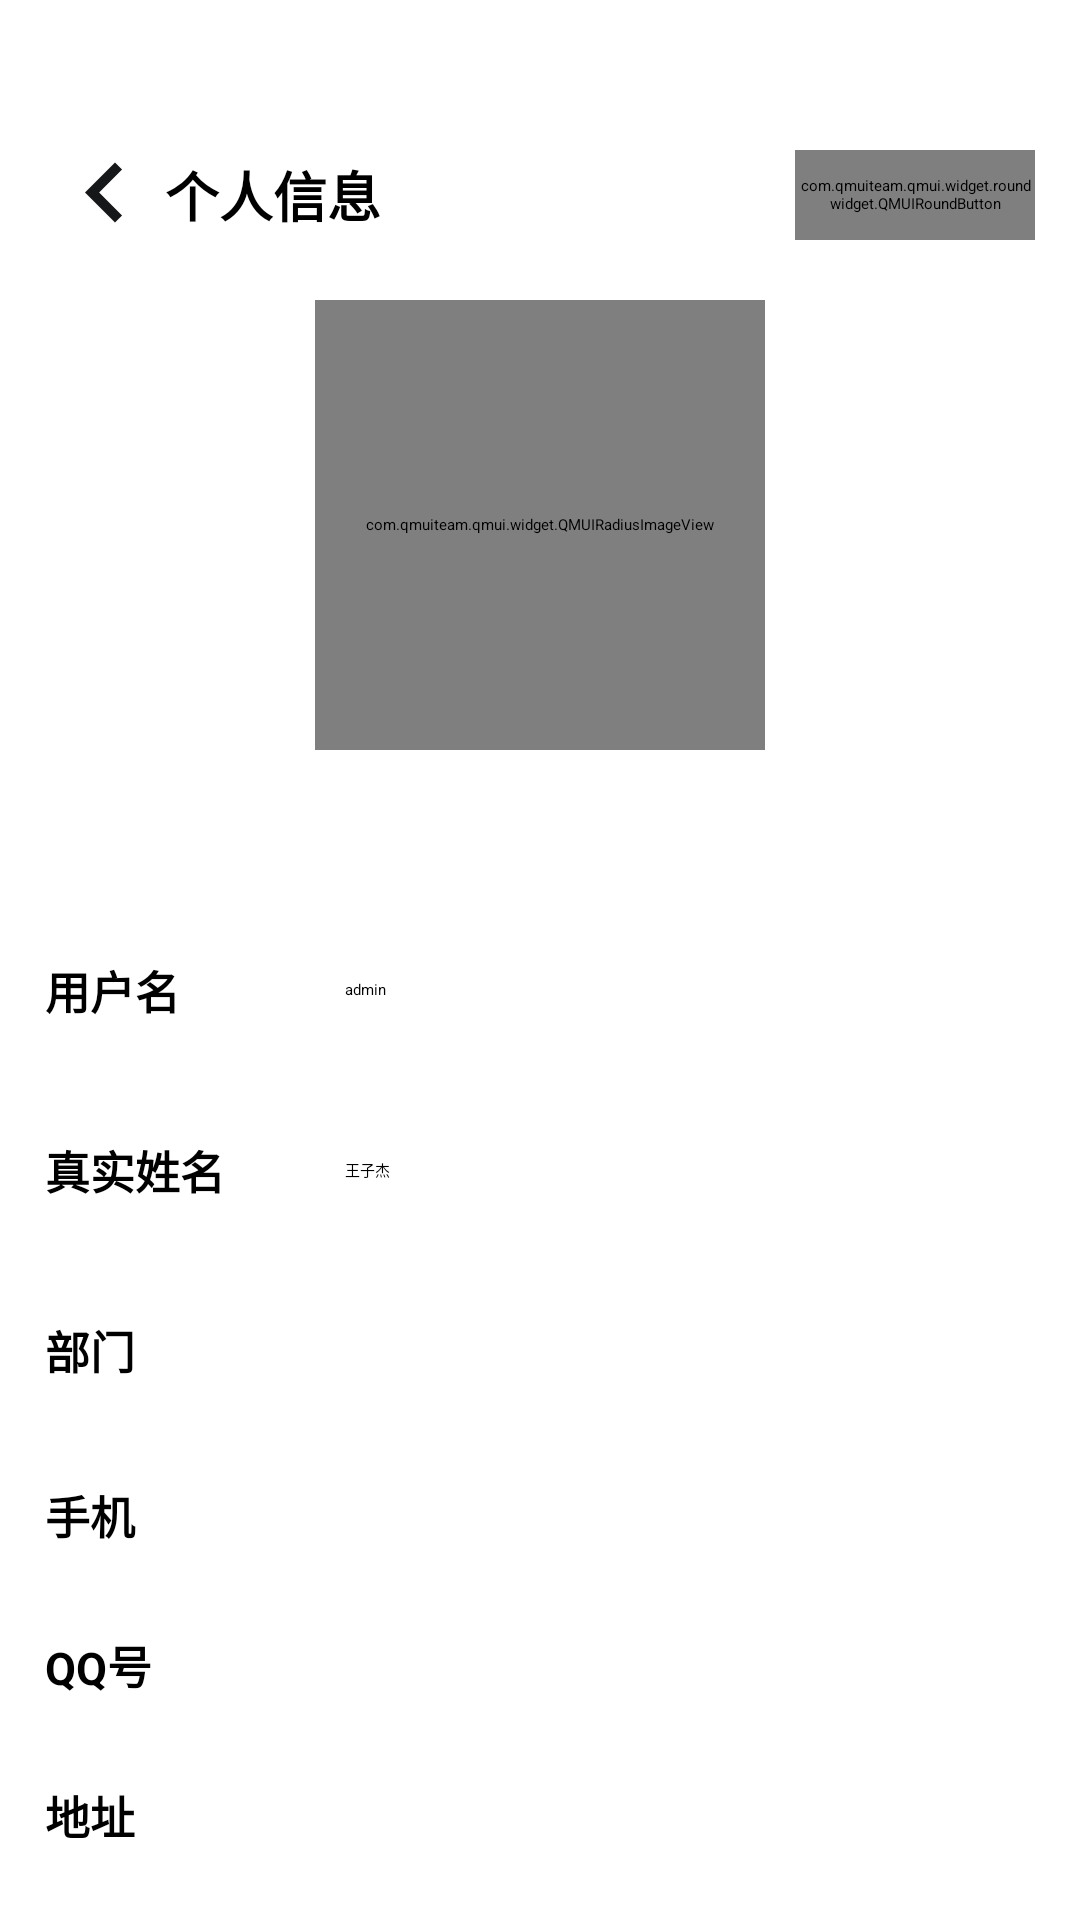

Named icons in this screenshot (1080w x 1920h) and their centers, (x=x, y=y):
return: (x=103, y=192)
